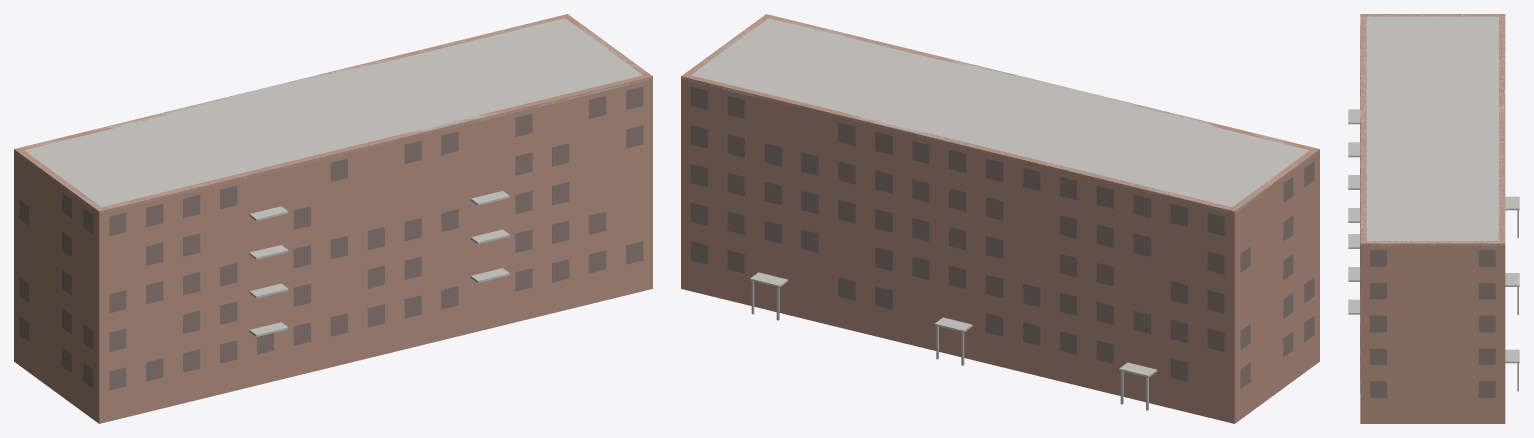
The picture shows the model from 3 angles, left to right: view 1: azimuth 30°, elevation 25°; view 2: azimuth 150°, elevation 25°; view 3: azimuth 270°, elevation 25°; orthographic projection. The views are drawn at different scales.
Visible parts, largest first — view 1: b6_lod2_outer, b6_lod2_slab, b6_lod2_glass, b6_lod2_balcony; view 2: b6_lod2_outer, b6_lod2_slab, b6_lod2_glass, b6_lod2_canopy; view 3: b6_lod2_slab, b6_lod2_outer, b6_lod2_glass, b6_lod2_balcony, b6_lod2_canopy.
Boxes of the visible parts, left/top/right/bottom form: b6_lod2_outer: left=14, top=14, right=652, bottom=423; b6_lod2_slab: left=14, top=17, right=651, bottom=211; b6_lod2_glass: left=19, top=87, right=643, bottom=390; b6_lod2_balcony: left=249, top=191, right=509, bottom=336; b6_lod2_outer: left=681, top=14, right=1319, bottom=423; b6_lod2_slab: left=681, top=15, right=1316, bottom=213; b6_lod2_glass: left=690, top=87, right=1314, bottom=388; b6_lod2_canopy: left=750, top=272, right=1157, bottom=410; b6_lod2_slab: left=1360, top=14, right=1505, bottom=245; b6_lod2_outer: left=1360, top=14, right=1505, bottom=423; b6_lod2_glass: left=1360, top=25, right=1495, bottom=397; b6_lod2_balcony: left=1348, top=109, right=1360, bottom=314; b6_lod2_canopy: left=1505, top=196, right=1519, bottom=391.
Bounding box in the file's own units: 45.04 × 16.5 × 14.2.
